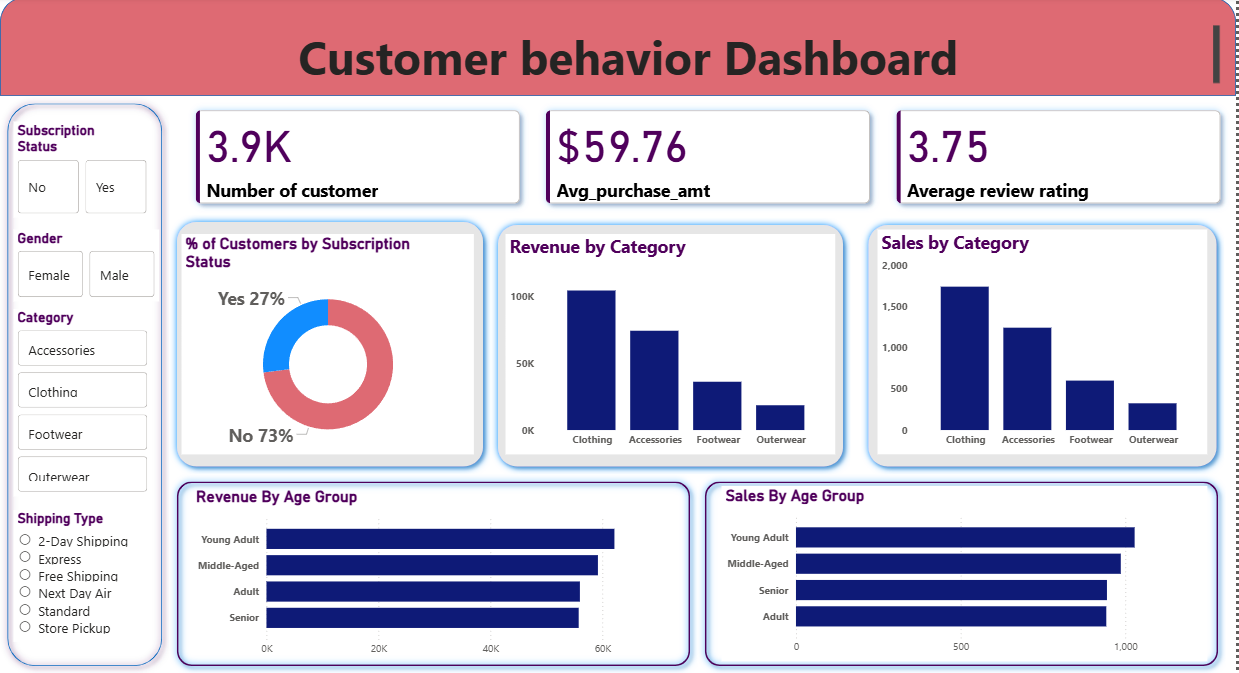

This screenshot's page, from the dashboard's own definition file:
{"tool":"powerbi","page":{"name":"Page 1","canvas":[1500,820],"ordinal":0},"visuals":[{"type":"cardVisual","fields":{"Data":["public customer.Number of customer","public customer.Avg_purchase_amt","public customer.Average review rating"]},"box":[220.2,120.1,1279.2,147.4],"z":0},{"type":"shape","box":[0,0,1499.3,120.1],"z":1000},{"type":"textbox","box":[78.2,29.1,1406.5,91],"z":2000},{"type":"shape","box":[205.6,263.8,389.4,314.8],"z":3000},{"type":"donutChart","title":"% of Customers by Subscription Status","fields":{"Category":["public customer.subscription_status"],"Y":["CountNonNull(public customer.customer_id)"]},"box":[220.2,287.5,354.8,267.5],"z":4000},{"type":"shape","box":[595,267.5,436.7,311.1],"z":5000},{"type":"shape","box":[1044.4,267.5,440.3,311.1],"z":6000},{"type":"clusteredColumnChart","title":"Revenue by Category","fields":{"Y":["Sum(public customer.purchase_amount)"],"Category":["public customer.category"]},"box":[613.2,287.5,400.3,267.5],"z":7000},{"type":"clusteredColumnChart","title":"Sales by Category","fields":{"Category":["public customer.category"],"Y":["CountNonNull(public customer.customer_id)"]},"box":[1064.4,282,400.3,272.9],"z":8000},{"type":"shape","box":[0,120.1,205.6,700.5],"z":9000},{"type":"advancedSlicerVisual","fields":{"Values":["public customer.subscription_status"]},"box":[16.4,151,167.4,116.5],"z":10000},{"type":"advancedSlicerVisual","fields":{"Values":["public customer.gender"]},"box":[16.4,282,176.5,87.3],"z":11000},{"type":"advancedSlicerVisual","fields":{"Values":["public customer.category"]},"box":[16.4,378.5,167.4,227.4],"z":12000},{"type":"listSlicer","title":"Shipping Type","fields":{"Values":["public customer.shipping_type"]},"box":[16.4,622.3,167.4,160.1],"z":13000},{"type":"clusteredBarChart","title":"Revenue By Age Group","fields":{"Category":["public customer.age_group"],"Y":["Sum(public customer.purchase_amount)"]},"box":[232.9,595,580.4,212.9],"z":14000},{"type":"shape","box":[205.6,578.6,640.5,242],"z":15000},{"type":"shape","box":[846.1,578.6,640.5,242],"z":15001},{"type":"clusteredBarChart","title":"Sales By Age Group","fields":{"Category":["public customer.age_group"],"Y":["CountNonNull(public customer.customer_id)"]},"box":[875.2,593.2,589.5,212.9],"z":15002}]}

Visuals, with their boxes in screenshot pixels (x1, y1, x2, y2), scaled from the page's 1500x820 canvas onto the 1239x673 screenshot:
cardVisual - public customer.Number of customer x public customer.Avg_purchase_amt: bbox=[182, 99, 1238, 220]
shape: bbox=[0, 0, 1238, 99]
textbox: bbox=[65, 24, 1226, 99]
shape: bbox=[170, 217, 491, 475]
"% of Customers by Subscription Status" donutChart: bbox=[182, 236, 475, 456]
shape: bbox=[491, 220, 852, 475]
shape: bbox=[863, 220, 1226, 475]
"Revenue by Category" clusteredColumnChart: bbox=[507, 236, 837, 456]
"Sales by Category" clusteredColumnChart: bbox=[879, 231, 1210, 455]
shape: bbox=[0, 99, 170, 672]
advancedSlicerVisual - public customer.subscription_status: bbox=[14, 124, 152, 220]
advancedSlicerVisual - public customer.gender: bbox=[14, 231, 159, 303]
advancedSlicerVisual - public customer.category: bbox=[14, 311, 152, 497]
"Shipping Type" listSlicer: bbox=[14, 511, 152, 642]
"Revenue By Age Group" clusteredBarChart: bbox=[192, 488, 672, 663]
shape: bbox=[170, 475, 699, 672]
shape: bbox=[699, 475, 1228, 672]
"Sales By Age Group" clusteredBarChart: bbox=[723, 487, 1210, 662]
